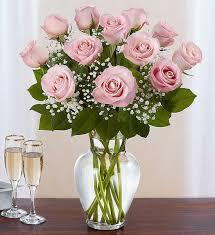Rose: (90, 65, 137, 111), (42, 65, 81, 102), (37, 5, 73, 41), (65, 35, 107, 65), (127, 29, 160, 67), (17, 38, 55, 71), (150, 60, 184, 96), (173, 36, 202, 76), (95, 15, 129, 44), (151, 18, 182, 48), (74, 4, 102, 31), (121, 4, 151, 28)
